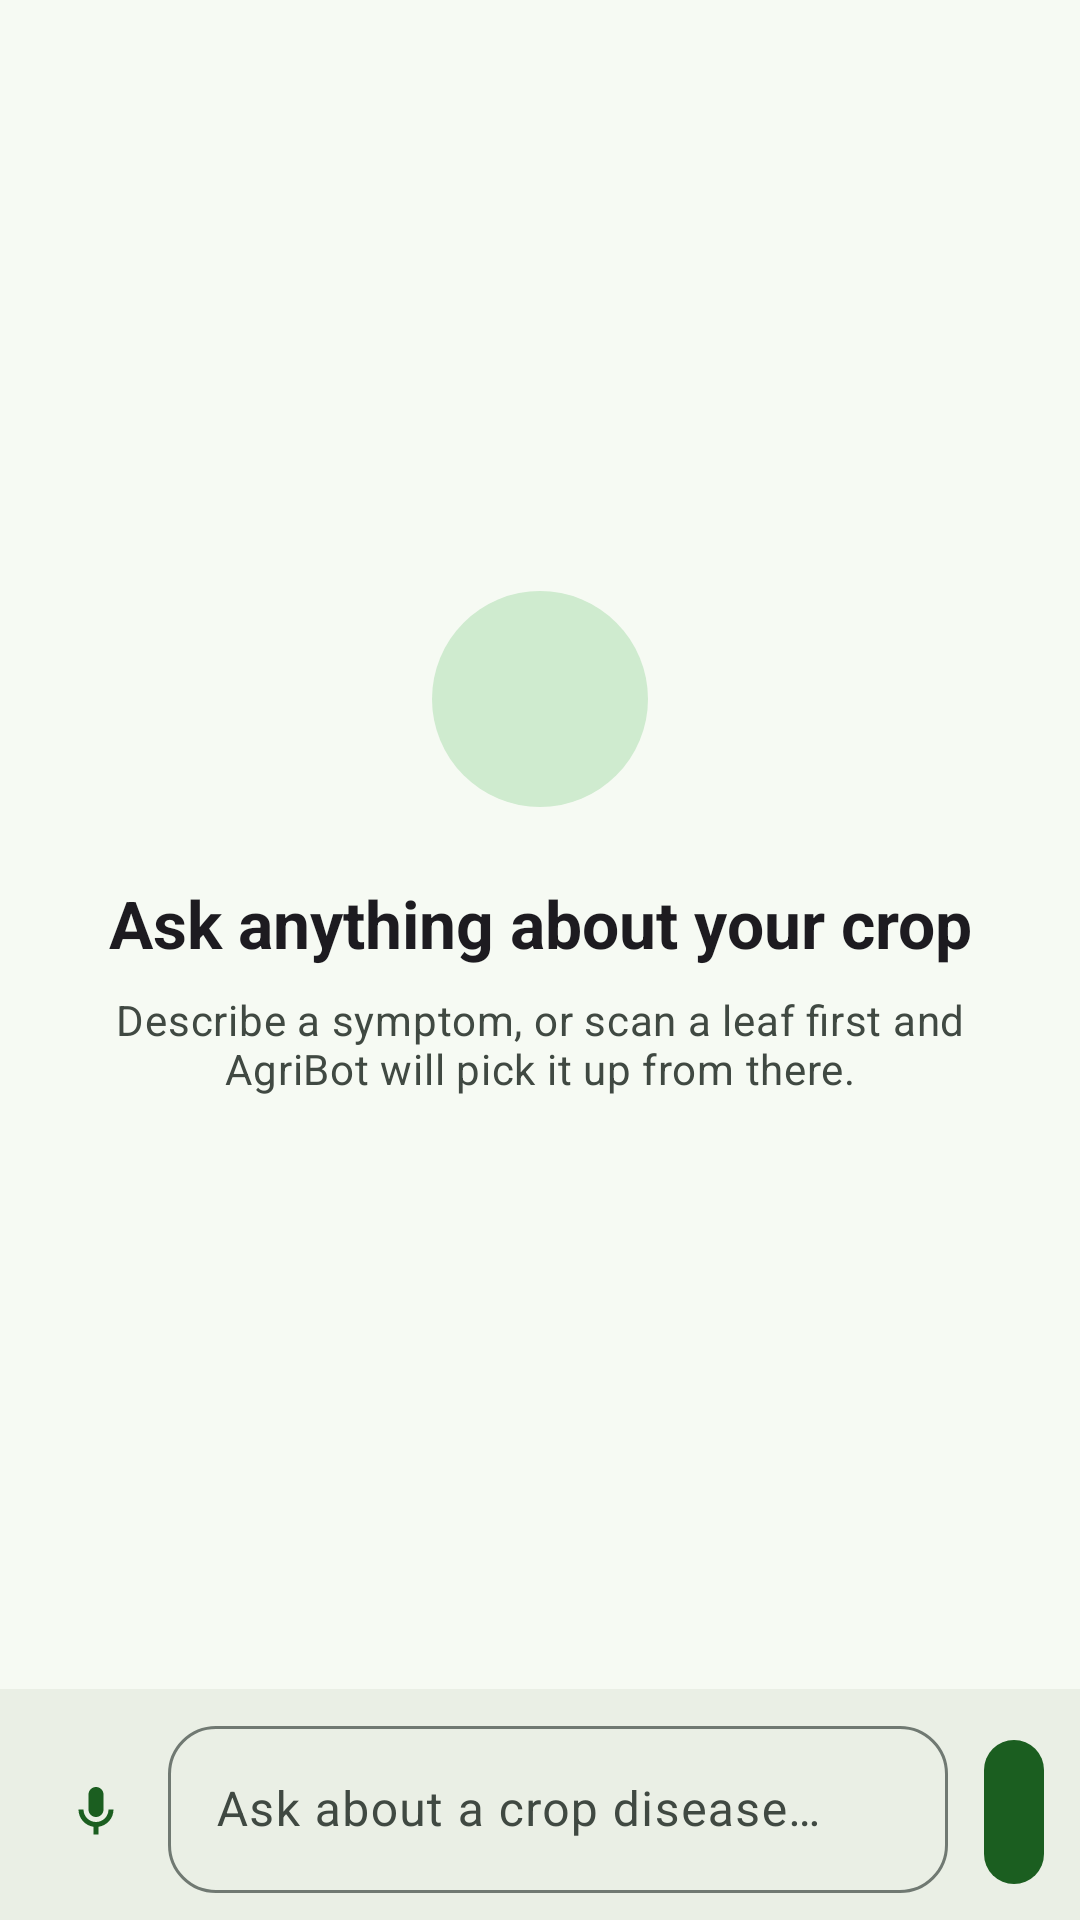

Where to tap for icons on this 1080×1920 app screen, as point (x, y):
Speak: point (96, 1811)
